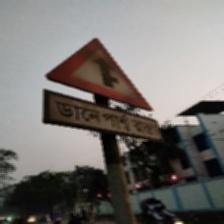Side-road-right: (41, 37, 159, 143)
